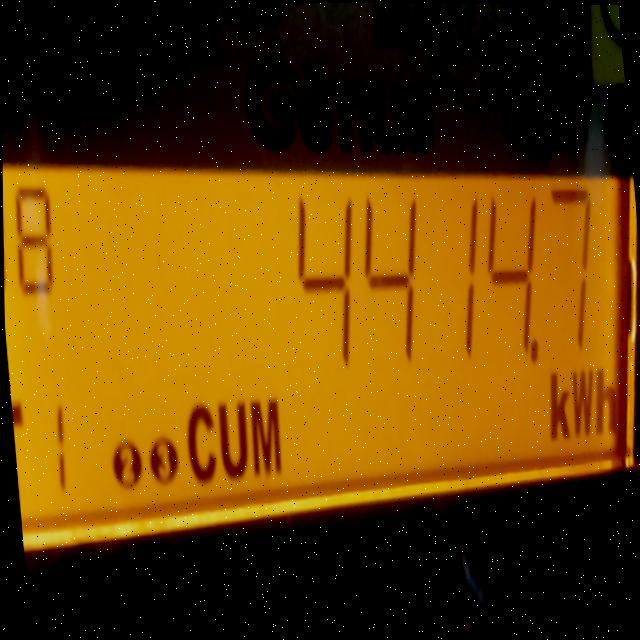.: (527, 338, 540, 366)
1: (449, 198, 487, 358), (52, 409, 67, 485), (2, 191, 6, 288)
4: (293, 189, 364, 364), (359, 190, 424, 359), (483, 195, 546, 353)
7: (549, 181, 604, 356)
8: (12, 188, 54, 295)
